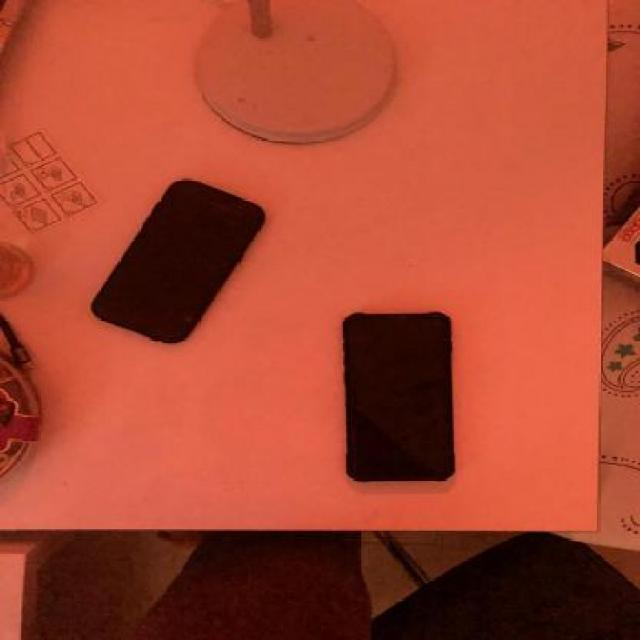phone: (88, 177, 270, 345), (338, 312, 461, 480)
